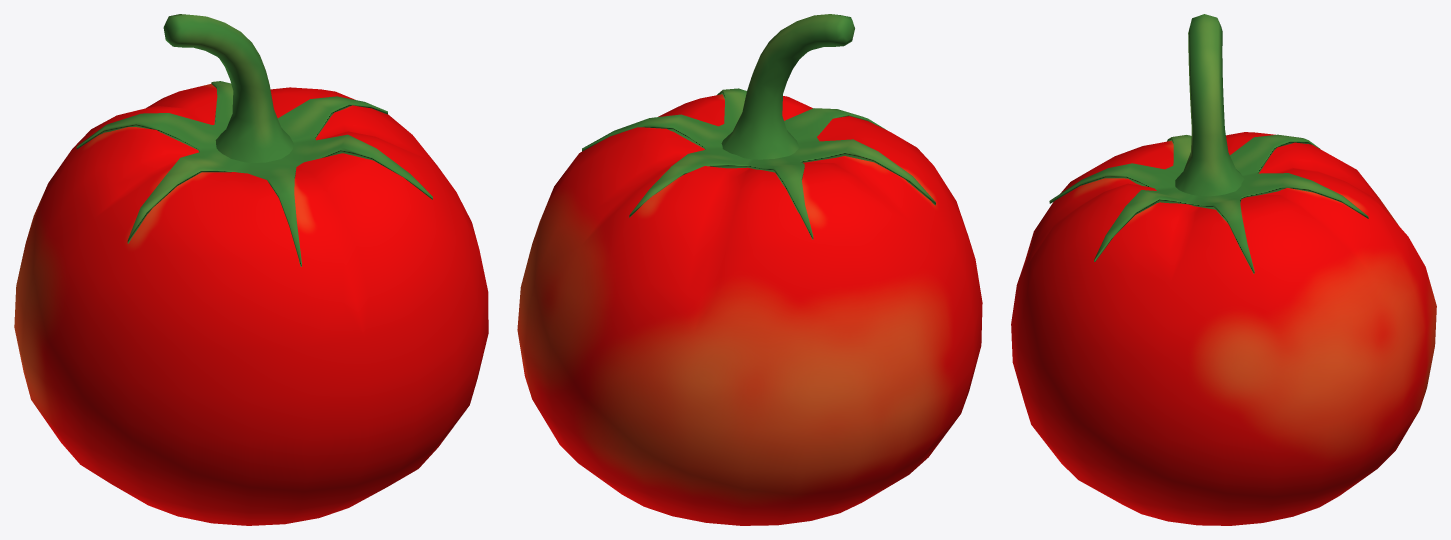
File: Tomato.fbx
The picture shows the model from 3 angles, left to right: view 1: azimuth 30°, elevation 25°; view 2: azimuth 150°, elevation 25°; view 3: azimuth 270°, elevation 25°; orthographic projection. The views are drawn at different scales.
Parts seen in each view (by area): view 1: Tomato; view 2: Tomato; view 3: Tomato.
Boxes of the visible parts, x1,y1,x2,y2 form: Tomato: (14,14,488,525); Tomato: (517,14,982,525); Tomato: (1011,14,1436,525).
Size of the model in its own units: 4.95 by 5.81 by 5.01.
